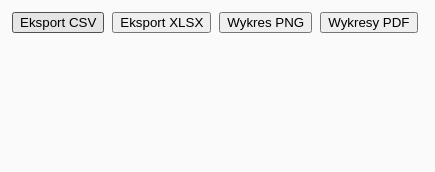
ExportBar › shows a Polish error on 413 and does not download
The width and height of the screenshot is (435, 172).
Click the button "Eksport CSV".
click(58, 22)  # box [12, 12, 104, 33]
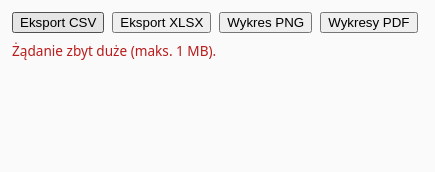
Expected: the message shows "Żądanie zbyt duże", [12, 41, 216, 60]
